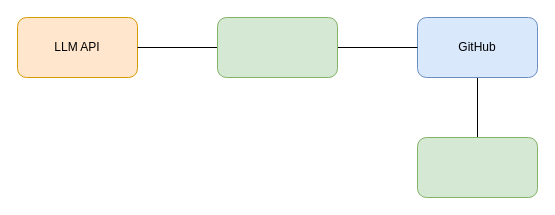
This 555x215 diagram has some shape labels left out. Here are the shapes that lost their labels. From the top down, the box of each, then its label:
(216, 16, 338, 78): Dev Instance
(416, 136, 538, 198): Prod Instance
